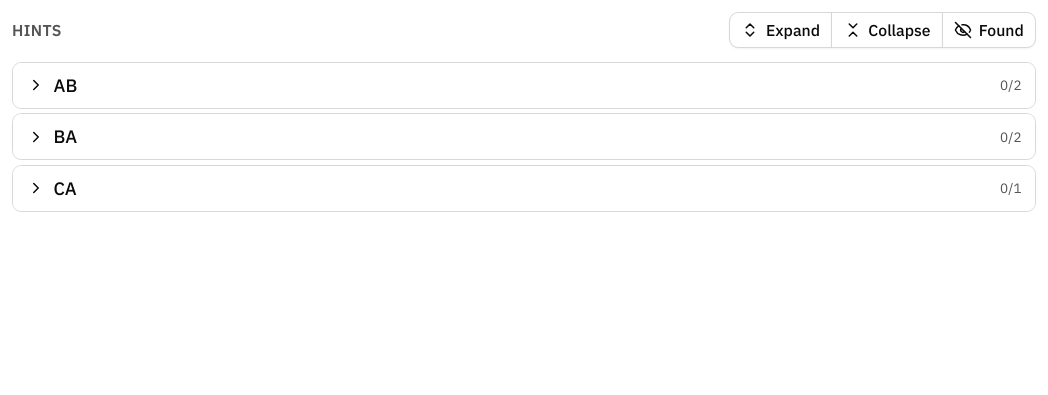
HintsList › collapsible behavior › allows multiple sections to be expanded simultaneously
The width and height of the screenshot is (1048, 395).
# Expand AB and BA
Click the button "AB 0/2" at (36, 85), box [13, 62, 1035, 108]
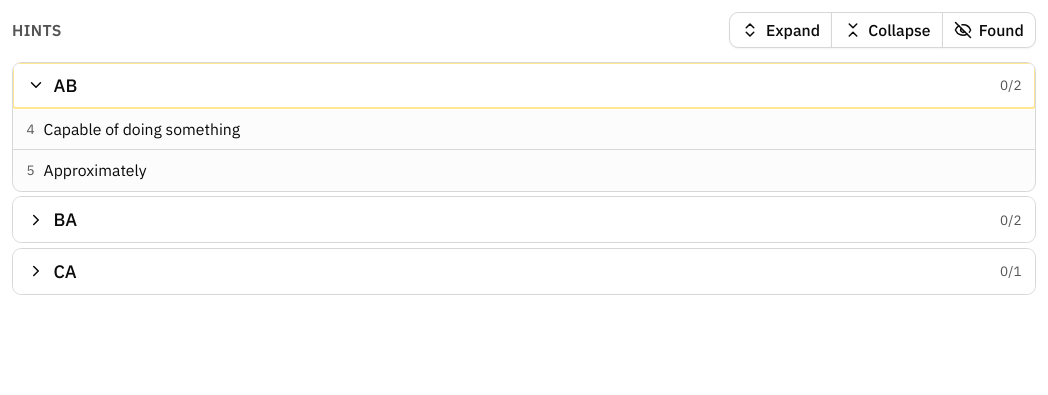
Click the button "BA 0/2" at (36, 220), box [13, 197, 1035, 242]
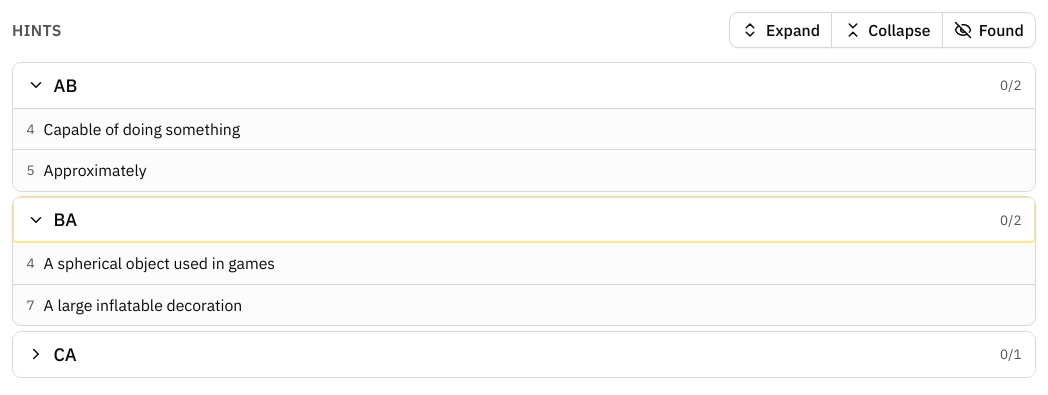
Check: the text "Capable of doing something" is shown, box [44, 118, 240, 140]
Check: the text "A spherical object used in games" is shown, box [44, 252, 275, 274]
